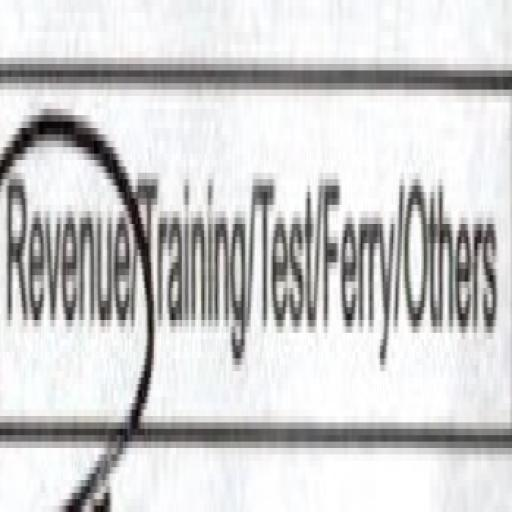check: (0, 0, 132, 512)
